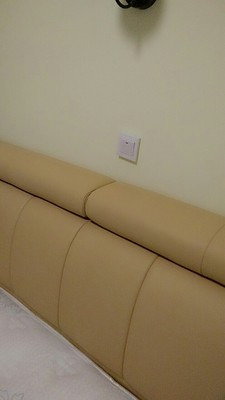switch: (120, 140, 135, 158)
